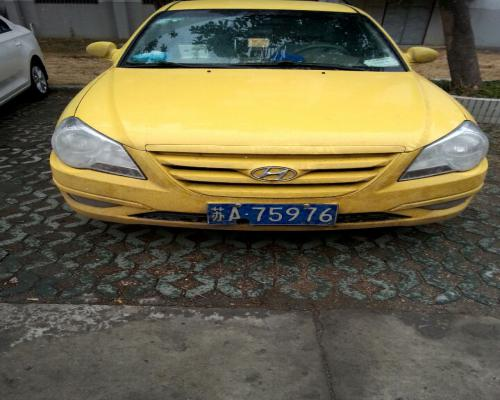Carplate: (198, 196, 347, 230)
